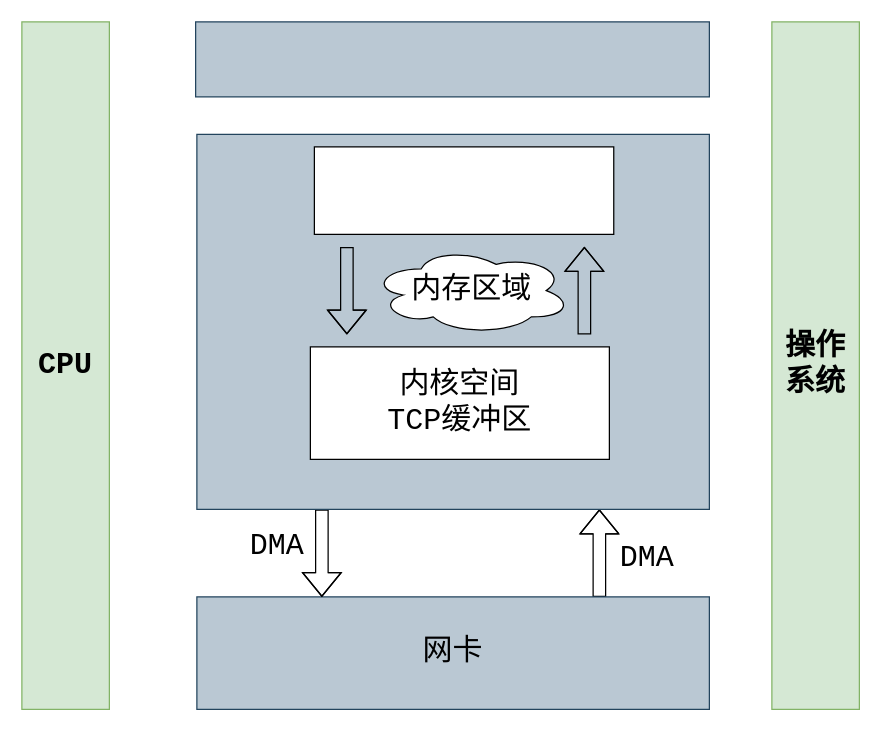
Image size: 881x731. Some labels were removed from this diagram. The shapes that lost their labels are listed below. From the top down, each one's centre as x and y in pixels, then its label:
the point at 451,59: 应用程序
the point at 463,190: 用户空间 buffer
